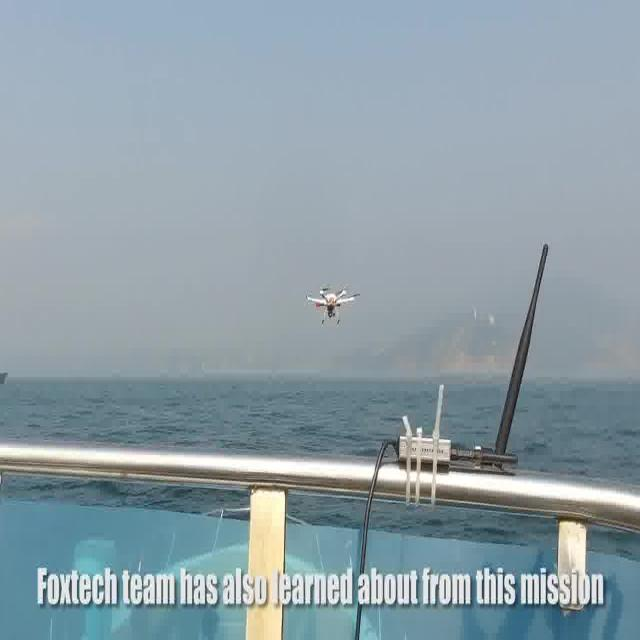drone: (304, 284, 360, 329)
